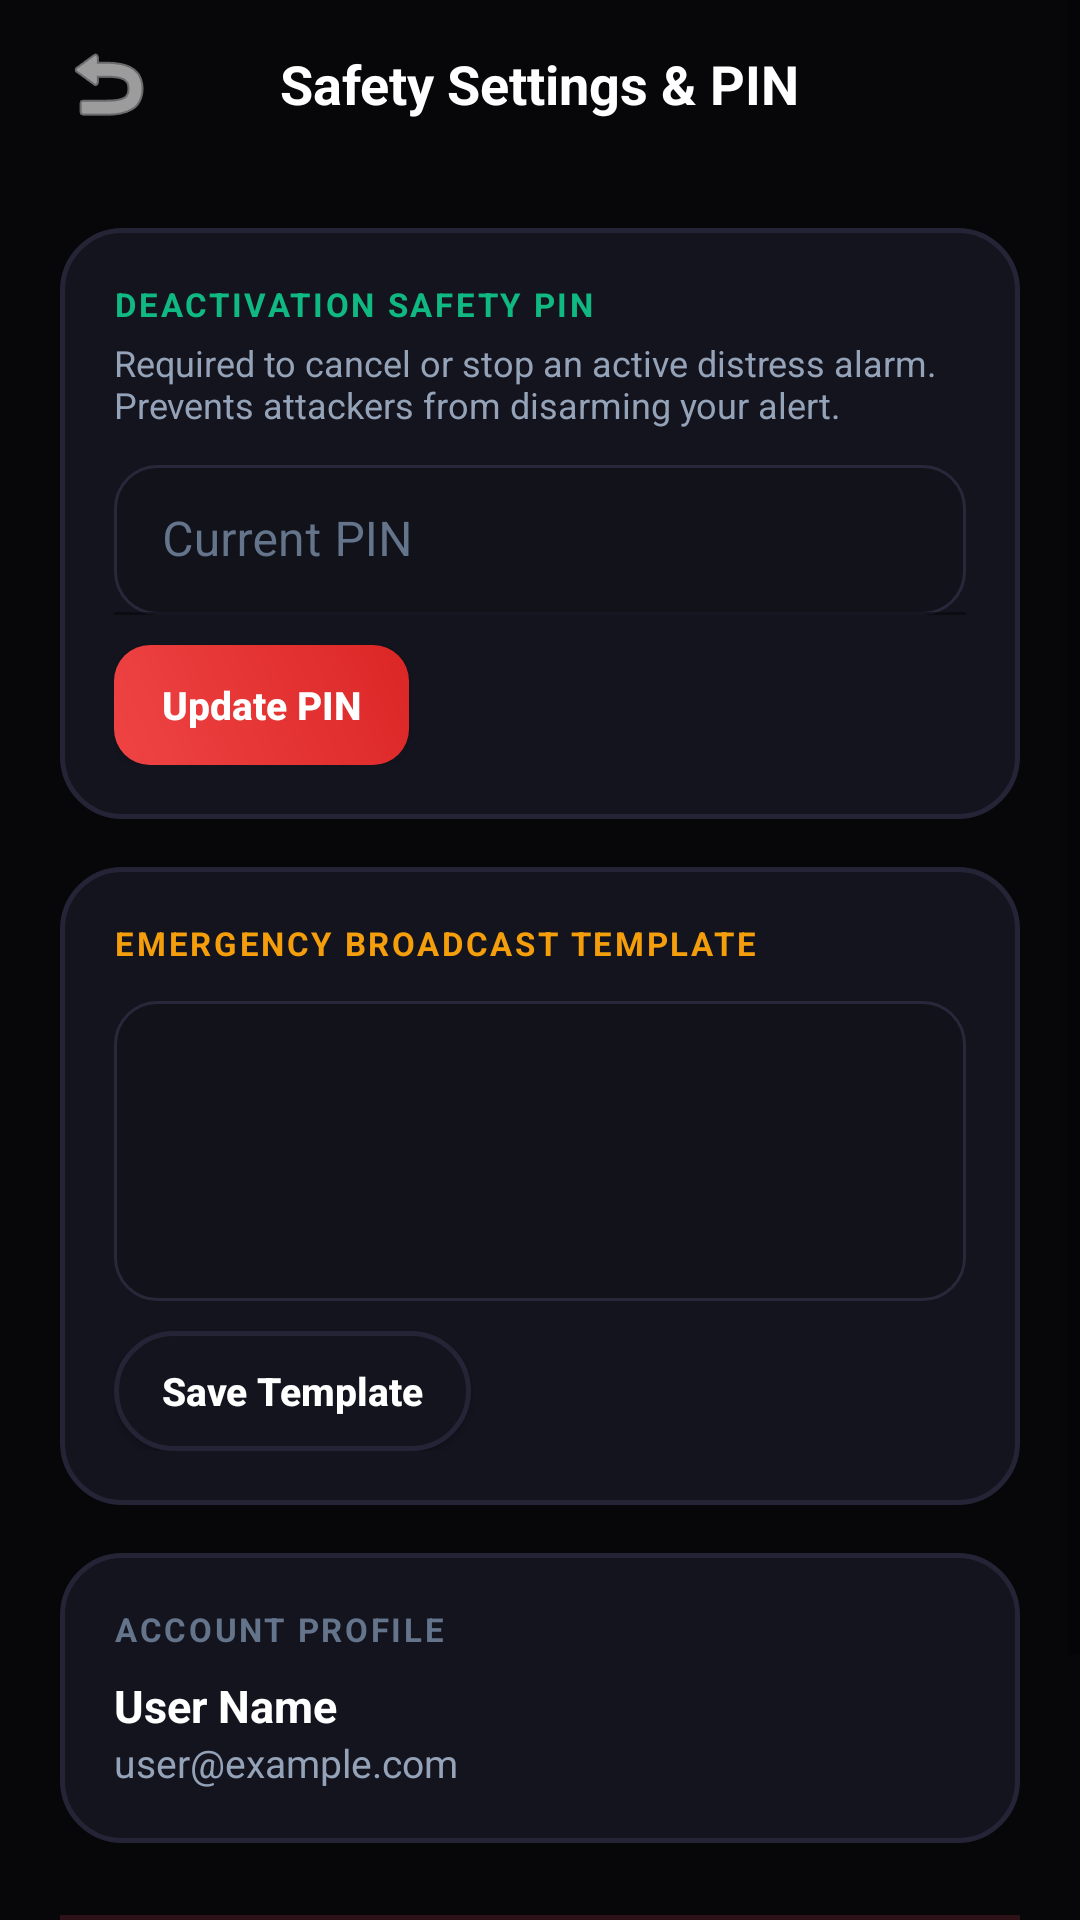

Icon click points for this 1080px x 1920px phone screenshot, format point (x, y):
Back: point (109, 84)
